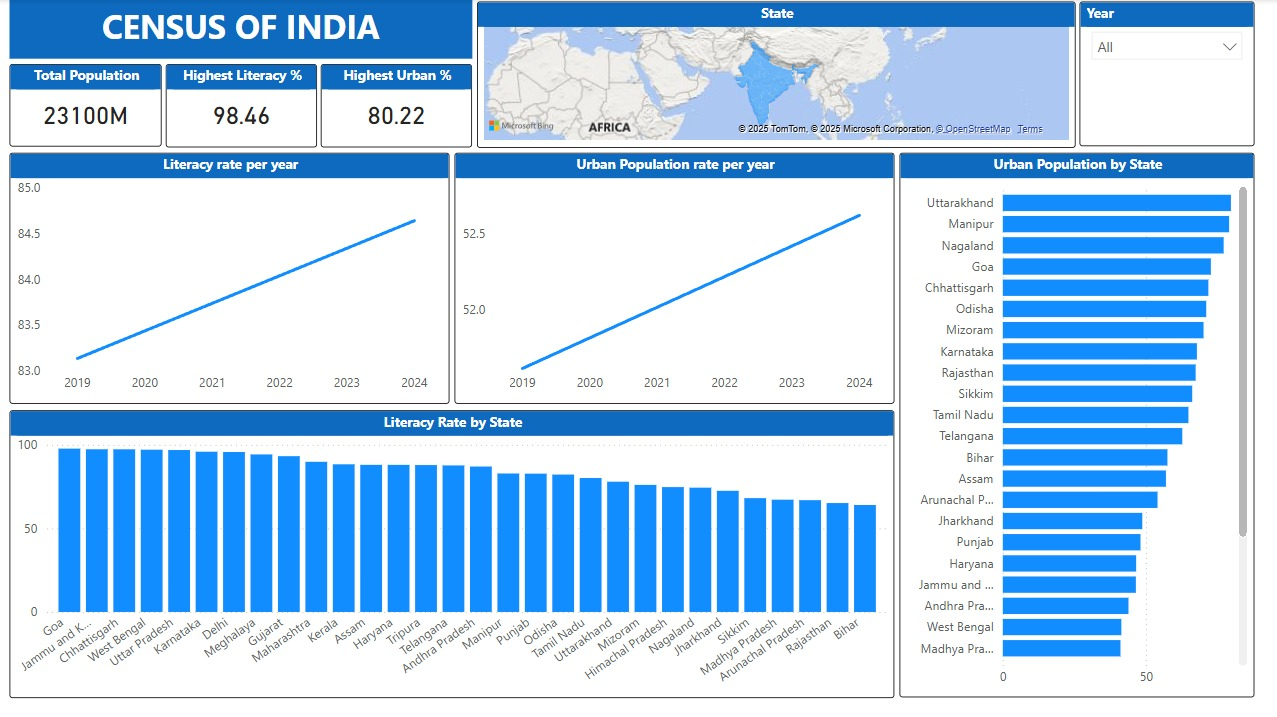

This screenshot's page, from the dashboard's own definition file:
{"tool":"powerbi","page":{"name":"Page 1","canvas":[1280,720],"ordinal":0},"visuals":[{"type":"textbox","box":[22.5,0,488.8,58.8],"z":0},{"type":"card","title":"Total Population","fields":{"Values":["Sum(Sheet1.Population)"]},"box":[22.5,70,148.8,77.5],"z":1000},{"type":"card","title":"Highest Literacy %","fields":{"Values":["Max(Sheet1.LiteracyRate(%))"]},"box":[193.8,70,147.5,81.2],"z":2000},{"type":"card","title":"Highest Urban %","fields":{"Values":["Max(Sheet1.UrbanPopulation(%))"]},"box":[363.8,70,147.5,81.2],"z":3000},{"type":"lineChart","title":"Literacy rate per year","fields":{"Category":["Sheet1.Year"],"Y":["Avg(Sheet1.LiteracyRate(%))"]},"box":[22.5,170,430,246.2],"z":4000},{"type":"clusteredColumnChart","title":"Literacy Rate by State","fields":{"Category":["Sheet1.State"],"Y":["Avg(Sheet1.LiteracyRate(%))"]},"box":[22.5,438.8,881.2,281.2],"z":5000},{"type":"clusteredBarChart","title":"Urban Population by State","fields":{"Category":["Sheet1.State"],"Y":["Avg(Sheet1.UrbanPopulation(%))"]},"box":[923.8,170,346.2,550],"z":6000},{"type":"slicer","title":"Year","fields":{"Values":["Sheet1.Year"]},"box":[1125,2.5,145,148.8],"z":7000},{"type":"lineChart","title":"Urban Population rate per year","fields":{"Category":["Sheet1.Year"],"Y":["Avg(Sheet1.UrbanPopulation(%))"]},"box":[473.8,170,430,246.2],"z":8000},{"type":"filledMap","fields":{"Category":["Sheet1.State"]},"box":[526.2,2.5,585,148.8],"z":9000}]}

Visuals, with their boxes in screenshot pixels (x1, y1, x2, y2), scaled from the page's 1280x720 canvas onto the 1277x717 screenshot:
textbox: [x1=22, y1=0, x2=510, y2=59]
"Total Population" card: [x1=22, y1=70, x2=171, y2=147]
"Highest Literacy %" card: [x1=193, y1=70, x2=341, y2=151]
"Highest Urban %" card: [x1=363, y1=70, x2=510, y2=151]
"Literacy rate per year" lineChart: [x1=22, y1=169, x2=451, y2=414]
"Literacy Rate by State" clusteredColumnChart: [x1=22, y1=437, x2=902, y2=716]
"Urban Population by State" clusteredBarChart: [x1=922, y1=169, x2=1267, y2=716]
"Year" slicer: [x1=1122, y1=2, x2=1267, y2=151]
"Urban Population rate per year" lineChart: [x1=473, y1=169, x2=902, y2=414]
filledMap - Sheet1.State: [x1=525, y1=2, x2=1109, y2=151]
